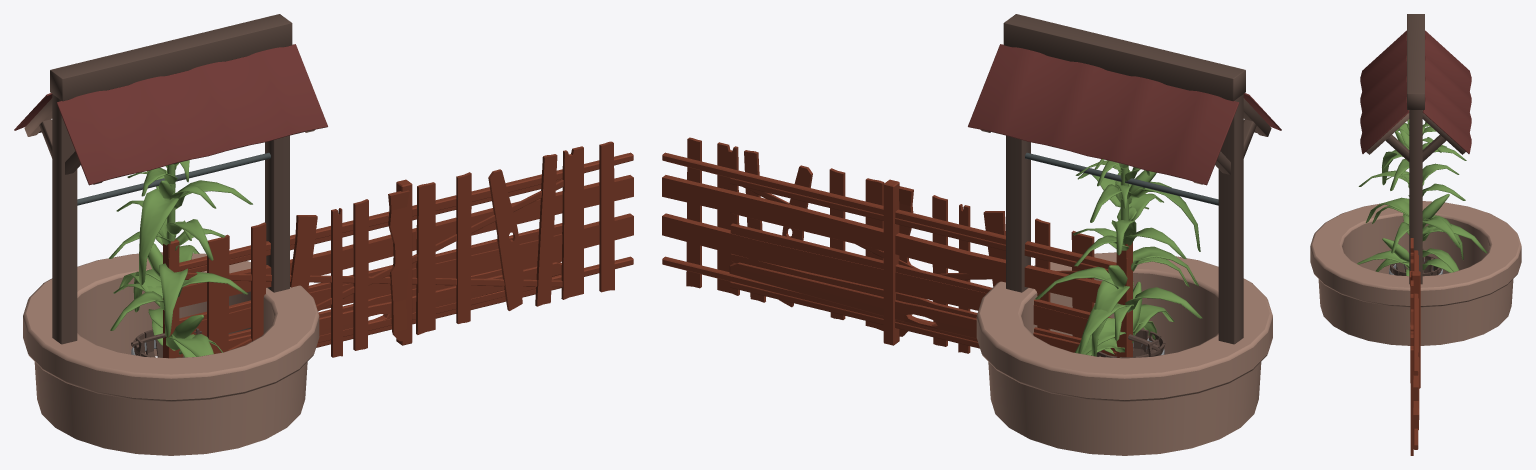
The model's file is Maizal_set1.fbx.
3 renders of one model, left to right at view 1: azimuth 30°, elevation 25°; view 2: azimuth 150°, elevation 25°; view 3: azimuth 270°, elevation 25°, orthographic. The views are drawn at different scales.
Visible parts, largest first — view 1: Aljibe, Cerca2, Cerca3.001, maizal.001, Cerca1, Cerca1.001, maizal.002, Balde; view 2: Aljibe, Cerca3.001, Cerca2, Cerca1.001, maizal.001, Cerca1, maizal.002, Balde, Cerca1.002; view 3: Aljibe, maizal.001, maizal.002, Cerca2, Cerca3.001, Balde.
Part boxes in pixels (x1=…): Aljibe: x1=14, y1=14, x2=327, y2=455; Cerca2: x1=169, y1=141, x2=632, y2=358; Cerca3.001: x1=169, y1=152, x2=633, y2=357; maizal.001: x1=110, y1=164, x2=252, y2=356; Cerca1: x1=170, y1=179, x2=563, y2=357; Cerca1.001: x1=179, y1=213, x2=562, y2=357; maizal.002: x1=109, y1=160, x2=247, y2=357; Balde: x1=131, y1=328, x2=201, y2=357; Aljibe: x1=968, y1=14, x2=1281, y2=455; Cerca3.001: x1=662, y1=152, x2=1126, y2=345; Cerca2: x1=663, y1=137, x2=1126, y2=357; Cerca1.001: x1=729, y1=177, x2=1126, y2=357; maizal.001: x1=1035, y1=160, x2=1202, y2=354; Cerca1: x1=730, y1=186, x2=1126, y2=356; maizal.002: x1=1073, y1=159, x2=1189, y2=356; Balde: x1=1096, y1=329, x2=1165, y2=358; Cerca1.002: x1=1117, y1=255, x2=1132, y2=357; Aljibe: x1=1310, y1=14, x2=1521, y2=345; maizal.001: x1=1357, y1=119, x2=1487, y2=271; maizal.002: x1=1372, y1=121, x2=1466, y2=276; Cerca2: x1=1409, y1=238, x2=1418, y2=455; Cerca3.001: x1=1411, y1=271, x2=1420, y2=449; Balde: x1=1389, y1=249, x2=1442, y2=276.
Size of the model in its own units: 541 by 310 by 236.
